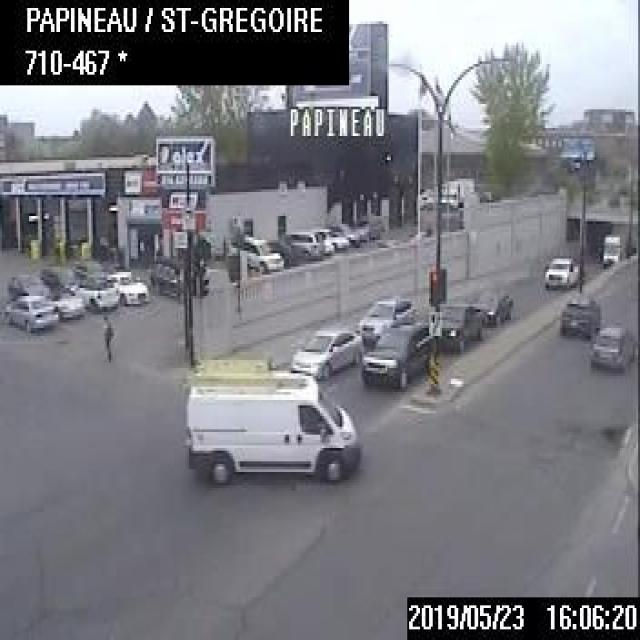pedestrian: (100, 312, 115, 365)
vehicle: (182, 373, 360, 480), (359, 318, 435, 388), (287, 323, 362, 378), (355, 296, 416, 343), (224, 228, 284, 272), (585, 321, 636, 372), (430, 303, 480, 352), (2, 290, 56, 332), (558, 294, 602, 340), (102, 266, 149, 308), (466, 288, 514, 326), (76, 273, 118, 311), (284, 226, 326, 264), (46, 284, 85, 322), (544, 253, 578, 286), (438, 176, 474, 207), (7, 274, 47, 298), (38, 264, 73, 288), (598, 232, 618, 261)
